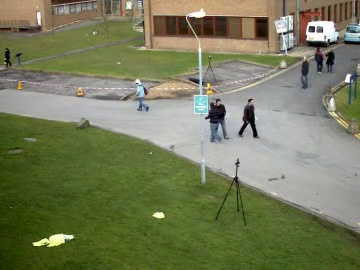person: (237, 97, 257, 137), (239, 98, 257, 139), (135, 79, 149, 111)
